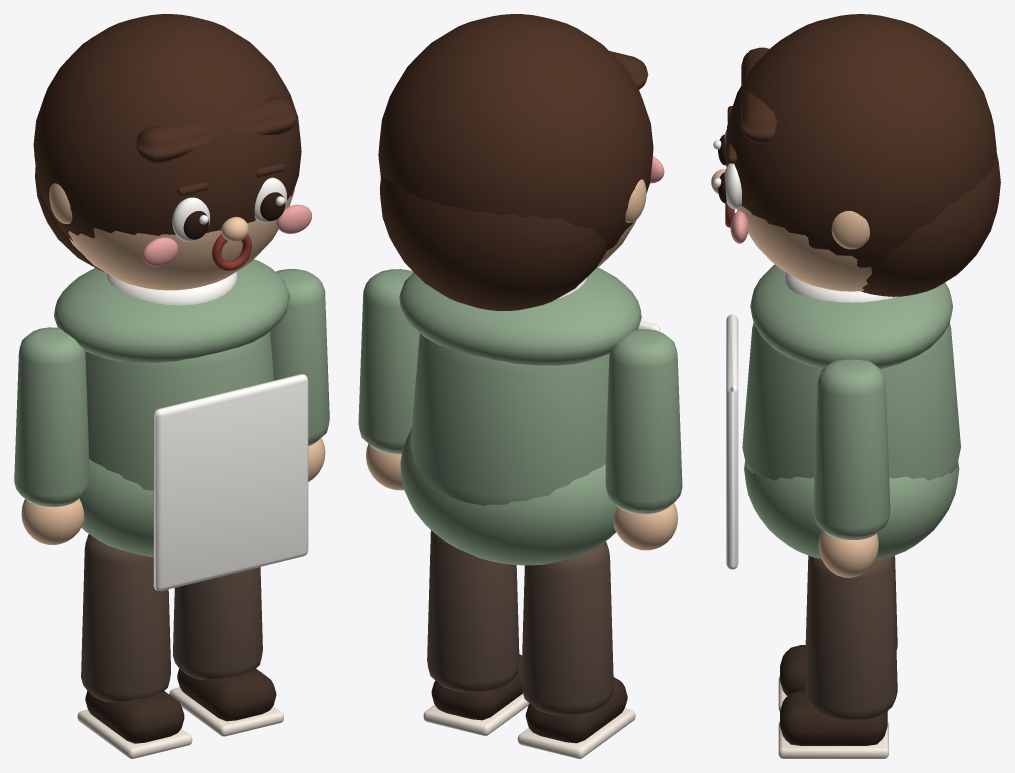
The model's file is personnage.glb.
The picture shows the model from 3 angles, left to right: view 1: azimuth 30°, elevation 25°; view 2: azimuth 150°, elevation 25°; view 3: azimuth 270°, elevation 25°; orthographic projection. The views are drawn at different scales.
Parts seen in each view (by area): view 1: cheveux_dessus, tablier, epaules, buste, pantalon_g, manche_g, pantalon_d, visage, manche_d, ventre, frange, chaussure_g (+14 smaller); view 2: cheveux_dessus, buste, cheveux_arriere, epaules, pantalon_g, ventre, manche_g, pantalon_d, manche_d, chaussure_g, chaussure_d, main_g (+5 smaller); view 3: cheveux_dessus, buste, pantalon_d, epaules, manche_d, ventre, cheveux_arriere, visage, chaussure_d, tablier, main_d, frange (+5 smaller).
Boxes of the visible parts, x1=… form: cheveux_dessus: x1=33, y1=14, x2=301, y2=240; tablier: x1=153, y1=374, x2=308, y2=591; epaules: x1=54, y1=259, x2=289, y2=362; buste: x1=85, y1=331, x2=273, y2=490; pantalon_g: x1=81, y1=534, x2=170, y2=702; manche_g: x1=14, y1=327, x2=89, y2=505; pantalon_d: x1=173, y1=567, x2=262, y2=680; visage: x1=68, y1=187, x2=294, y2=290; manche_d: x1=270, y1=269, x2=329, y2=444; ventre: x1=79, y1=459, x2=153, y2=556; frange: x1=136, y1=97, x2=296, y2=163; chaussure_g: x1=85, y1=691, x2=184, y2=743; cheveux_dessus: x1=378, y1=14, x2=653, y2=250; buste: x1=410, y1=333, x2=609, y2=505; cheveux_arriere: x1=380, y1=175, x2=606, y2=310; epaules: x1=399, y1=267, x2=641, y2=365; pantalon_g: x1=521, y1=541, x2=613, y2=715; ventre: x1=400, y1=428, x2=617, y2=565; manche_g: x1=605, y1=329, x2=682, y2=512; pantalon_d: x1=427, y1=530, x2=519, y2=692; manche_d: x1=358, y1=269, x2=419, y2=452; chaussure_g: x1=525, y1=677, x2=627, y2=743; chaussure_d: x1=431, y1=654, x2=522, y2=720; main_g: x1=613, y1=503, x2=677, y2=550; cheveux_dessus: x1=724, y1=14, x2=996, y2=267; buste: x1=742, y1=322, x2=960, y2=480; pantalon_d: x1=805, y1=556, x2=897, y2=721; epaules: x1=750, y1=264, x2=952, y2=368; manche_d: x1=813, y1=359, x2=890, y2=538; ventre: x1=744, y1=461, x2=959, y2=560; cheveux_arriere: x1=861, y1=152, x2=1000, y2=296; visage: x1=736, y1=205, x2=871, y2=291; chaussure_d: x1=780, y1=690, x2=887, y2=745; tablier: x1=726, y1=314, x2=738, y2=569; main_d: x1=818, y1=530, x2=878, y2=577; frange: x1=741, y1=47, x2=776, y2=143.
Size of the model in its own units: 0.6 by 1.29 by 0.4856.
